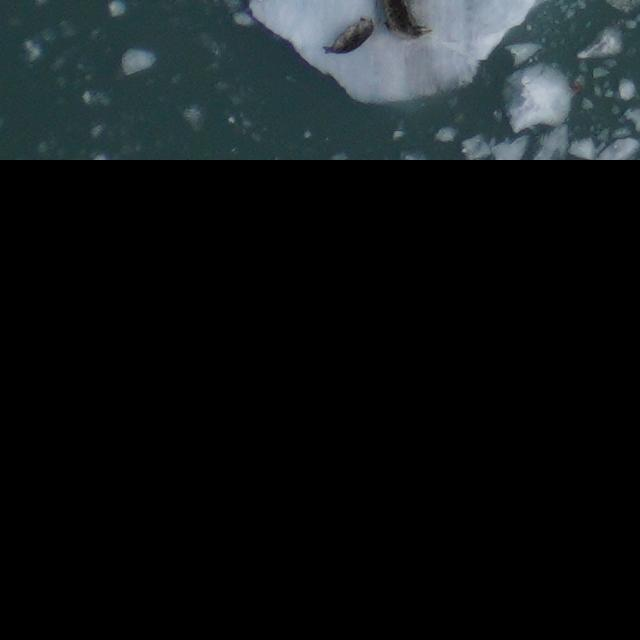seal: (375, 0, 436, 43), (320, 13, 379, 57)
